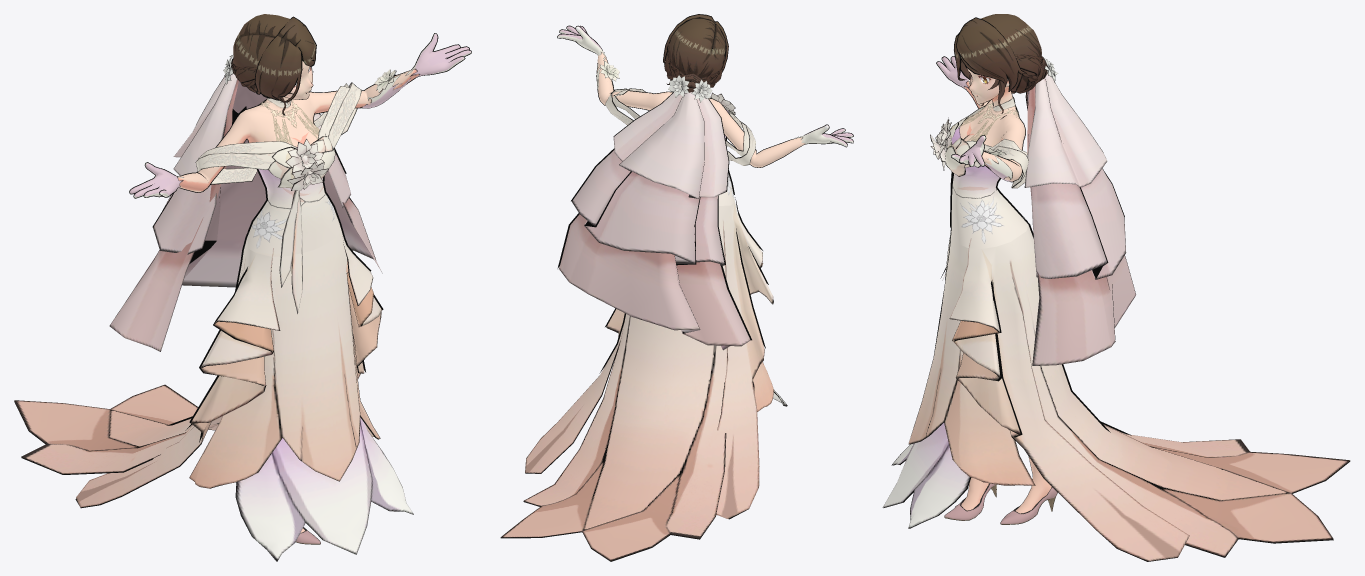
The model's file is SK_Cartoon_19.gltf.
3 renders of one model, left to right at view 1: azimuth 30°, elevation 25°; view 2: azimuth 150°, elevation 25°; view 3: azimuth 270°, elevation 25°, orthographic. The views are drawn at different scales.
Parts seen in each view (by area): view 1: SK_Cartoon_Female_019_27_StaticMeshComponent0; view 2: SK_Cartoon_Female_019_27_StaticMeshComponent0; view 3: SK_Cartoon_Female_019_27_StaticMeshComponent0.
Boxes of the visible parts, x1,y1,x2,y2 form: SK_Cartoon_Female_019_27_StaticMeshComponent0: [14, 14, 471, 561]; SK_Cartoon_Female_019_27_StaticMeshComponent0: [500, 14, 853, 561]; SK_Cartoon_Female_019_27_StaticMeshComponent0: [882, 14, 1350, 561].
Bounding box in the file's own units: 1.17 × 1.68 × 1.43.
Materials: 2 (1 with a texture image).
